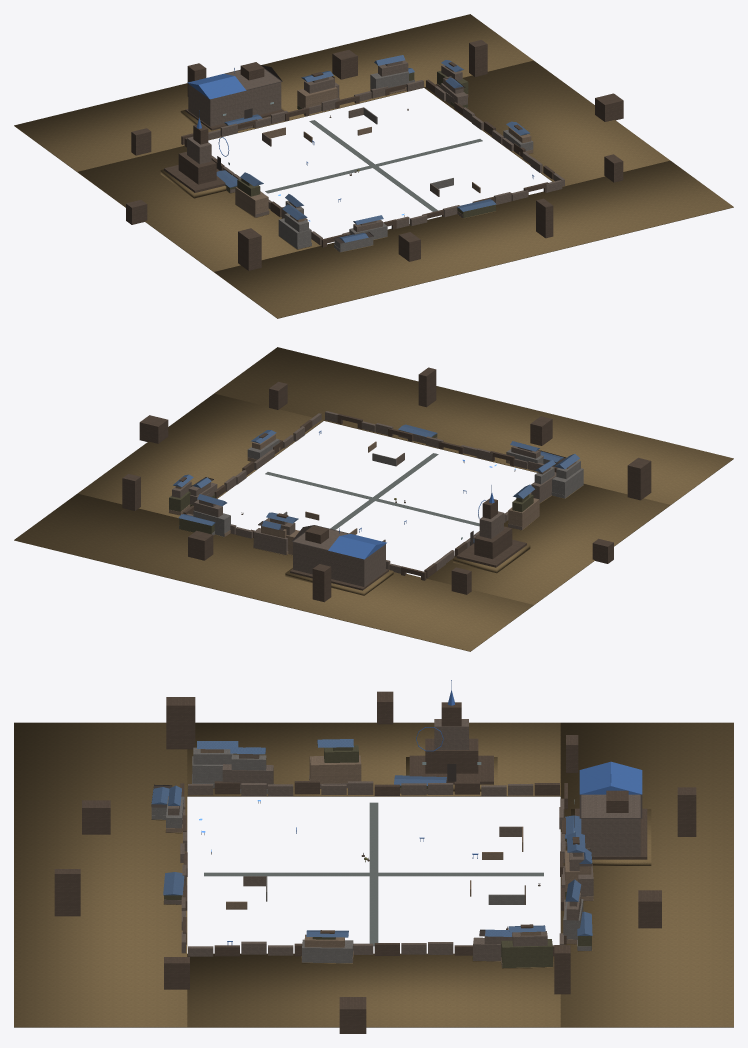
Rendered from onsengai-lod2.glb.
3 renders of one model, top to bottom at view 1: azimuth 30°, elevation 25°; view 2: azimuth 150°, elevation 25°; view 3: azimuth 270°, elevation 25°, orthographic. The views are drawn at different scales.
Parts seen in each view (by area): view 1: HB_onsengai_LOD2_terrain, HB_onsengai_LOD2_wall_alt, HB_onsengai_LOD2_wall, HB_onsengai_LOD2_LANDMARK_0_wall, HB_onsengai_LOD2_wall_cool, HB_onsengai_LOD2_roof, HB_onsengai_LOD2_wall_warm, HB_onsengai_LOD2_LANDMARK_1_wall_alt, HB_onsengai_LOD2_road, HB_onsengai_LOD2_LANDMARK_0_accent, HB_onsengai_LOD2_wall_weathered, HB_onsengai_LOD2_LANDMARK_0_wall_alt (+1 smaller); view 2: HB_onsengai_LOD2_terrain, HB_onsengai_LOD2_wall_alt, HB_onsengai_LOD2_wall, HB_onsengai_LOD2_LANDMARK_0_wall, HB_onsengai_LOD2_wall_cool, HB_onsengai_LOD2_roof, HB_onsengai_LOD2_LANDMARK_1_wall_alt, HB_onsengai_LOD2_wall_warm, HB_onsengai_LOD2_road, HB_onsengai_LOD2_wall_weathered, HB_onsengai_LOD2_LANDMARK_0_accent, HB_onsengai_LOD2_LANDMARK_0_wall_alt (+2 smaller); view 3: HB_onsengai_LOD2_terrain, HB_onsengai_LOD2_wall_alt, HB_onsengai_LOD2_wall, HB_onsengai_LOD2_roof, HB_onsengai_LOD2_wall_cool, HB_onsengai_LOD2_LANDMARK_0_wall, HB_onsengai_LOD2_road, HB_onsengai_LOD2_LANDMARK_1_wall_alt, HB_onsengai_LOD2_wall_warm, HB_onsengai_LOD2_wall_weathered, HB_onsengai_LOD2_LANDMARK_0_accent, HB_onsengai_LOD2_LANDMARK_0_wall_alt (+2 smaller).
Boxes of the visible parts, x1=… form: HB_onsengai_LOD2_terrain: x1=14, y1=14, x2=733, y2=318; HB_onsengai_LOD2_wall_alt: x1=126, y1=40, x2=623, y2=270; HB_onsengai_LOD2_wall: x1=208, y1=60, x2=564, y2=245; HB_onsengai_LOD2_LANDMARK_0_wall: x1=188, y1=69, x2=281, y2=126; HB_onsengai_LOD2_wall_cool: x1=278, y1=71, x2=533, y2=252; HB_onsengai_LOD2_roof: x1=216, y1=55, x2=529, y2=242; HB_onsengai_LOD2_wall_warm: x1=235, y1=66, x2=533, y2=222; HB_onsengai_LOD2_LANDMARK_1_wall_alt: x1=164, y1=124, x2=225, y2=192; HB_onsengai_LOD2_road: x1=265, y1=120, x2=482, y2=211; HB_onsengai_LOD2_LANDMARK_0_accent: x1=187, y1=68, x2=246, y2=99; HB_onsengai_LOD2_wall_weathered: x1=224, y1=71, x2=526, y2=218; HB_onsengai_LOD2_LANDMARK_0_wall_alt: x1=185, y1=62, x2=284, y2=130; HB_onsengai_LOD2_terrain: x1=14, y1=347, x2=733, y2=651; HB_onsengai_LOD2_wall_alt: x1=122, y1=367, x2=651, y2=602; HB_onsengai_LOD2_wall: x1=172, y1=411, x2=556, y2=573; HB_onsengai_LOD2_LANDMARK_0_wall: x1=293, y1=525, x2=385, y2=586; HB_onsengai_LOD2_wall_cool: x1=179, y1=438, x2=583, y2=536; HB_onsengai_LOD2_roof: x1=173, y1=424, x2=579, y2=542; HB_onsengai_LOD2_LANDMARK_1_wall_alt: x1=456, y1=498, x2=526, y2=567; HB_onsengai_LOD2_wall_warm: x1=169, y1=434, x2=576, y2=554; HB_onsengai_LOD2_road: x1=265, y1=453, x2=479, y2=529; HB_onsengai_LOD2_wall_weathered: x1=169, y1=430, x2=533, y2=544; HB_onsengai_LOD2_LANDMARK_0_accent: x1=328, y1=528, x2=386, y2=559; HB_onsengai_LOD2_LANDMARK_0_wall_alt: x1=290, y1=525, x2=388, y2=590; HB_onsengai_LOD2_terrain: x1=14, y1=722, x2=733, y2=1027; HB_onsengai_LOD2_wall_alt: x1=54, y1=691, x2=696, y2=1033; HB_onsengai_LOD2_wall: x1=164, y1=754, x2=593, y2=961; HB_onsengai_LOD2_roof: x1=151, y1=739, x2=592, y2=937; HB_onsengai_LOD2_wall_cool: x1=151, y1=747, x2=591, y2=963; HB_onsengai_LOD2_LANDMARK_0_wall: x1=581, y1=794, x2=640, y2=856; HB_onsengai_LOD2_road: x1=204, y1=802, x2=543, y2=946; HB_onsengai_LOD2_LANDMARK_1_wall_alt: x1=409, y1=702, x2=493, y2=784; HB_onsengai_LOD2_wall_warm: x1=166, y1=749, x2=593, y2=967; HB_onsengai_LOD2_wall_weathered: x1=164, y1=745, x2=591, y2=967; HB_onsengai_LOD2_LANDMARK_0_accent: x1=579, y1=761, x2=642, y2=794; HB_onsengai_LOD2_LANDMARK_0_wall_alt: x1=575, y1=790, x2=647, y2=859.
Size of the model in its own units: 566 by 81.2 by 540.
Materials: 13 (11 with a texture image).
